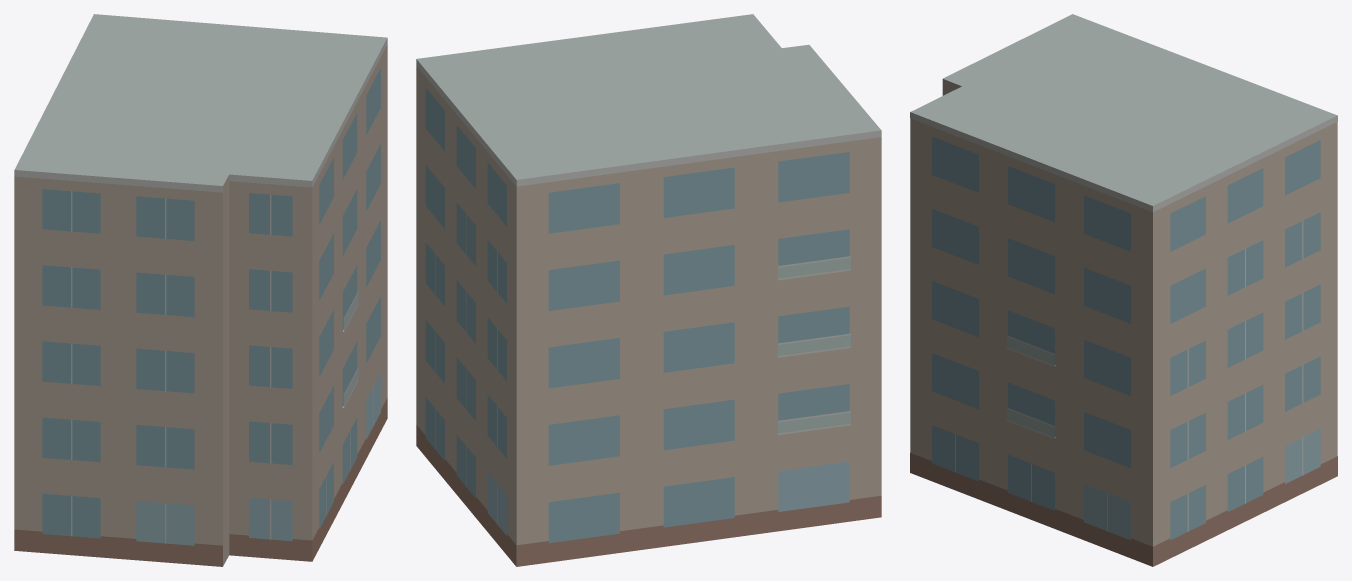
The model's file is survey-upis-32894003.glb.
3 renders of one model, left to right at view 1: azimuth 30°, elevation 25°; view 2: azimuth 150°, elevation 25°; view 3: azimuth 270°, elevation 25°, orthographic. The views are drawn at different scales.
Visible parts, largest first — view 1: survey-upis-32894003.tmp; view 2: survey-upis-32894003.tmp; view 3: survey-upis-32894003.tmp.
Boxes of the visible parts, bbox=[...] form: survey-upis-32894003.tmp: bbox=[14, 14, 387, 566]; survey-upis-32894003.tmp: bbox=[416, 14, 881, 566]; survey-upis-32894003.tmp: bbox=[910, 14, 1337, 566].
Bounding box in the file's own units: 16.16 × 14.15 × 15.2.
